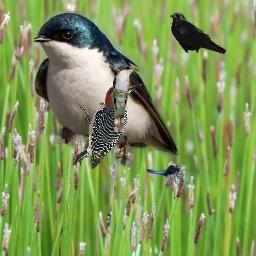Crow: (169, 12, 226, 54)
Cuckoo: (112, 65, 139, 132)
Swallow: (34, 11, 181, 167)
Woodpecker: (75, 83, 143, 169)
